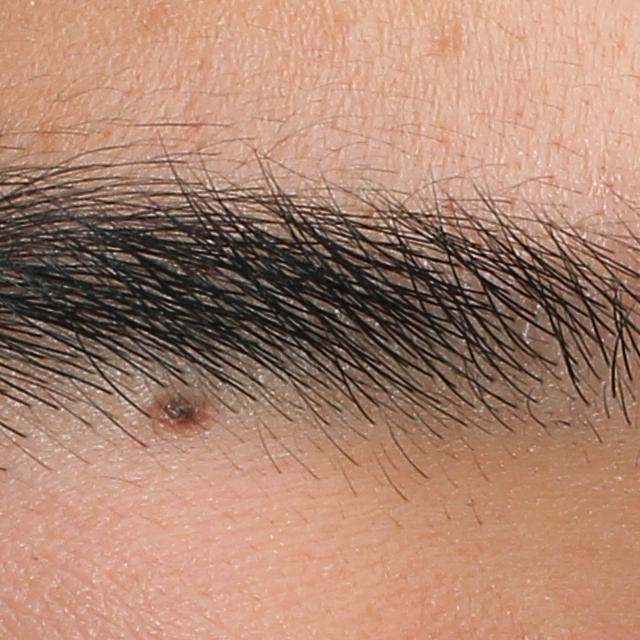nevus: (142, 384, 215, 439)
